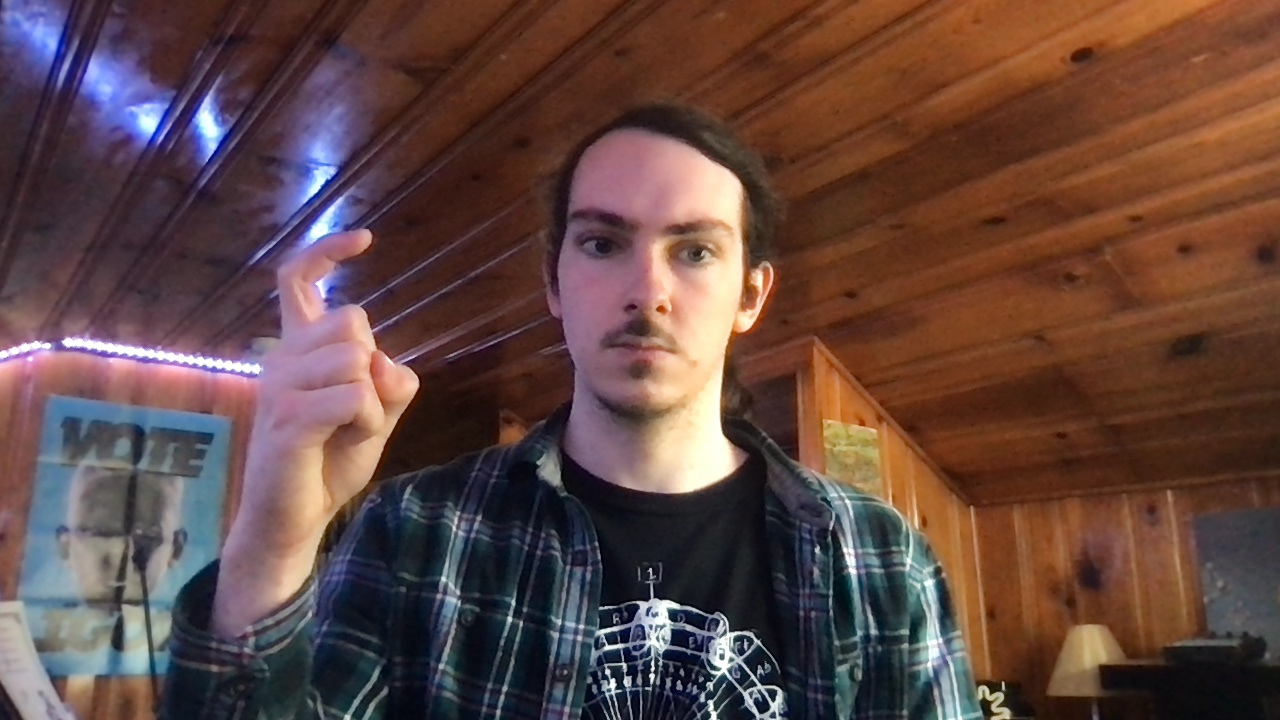x: (243, 227, 419, 548)
